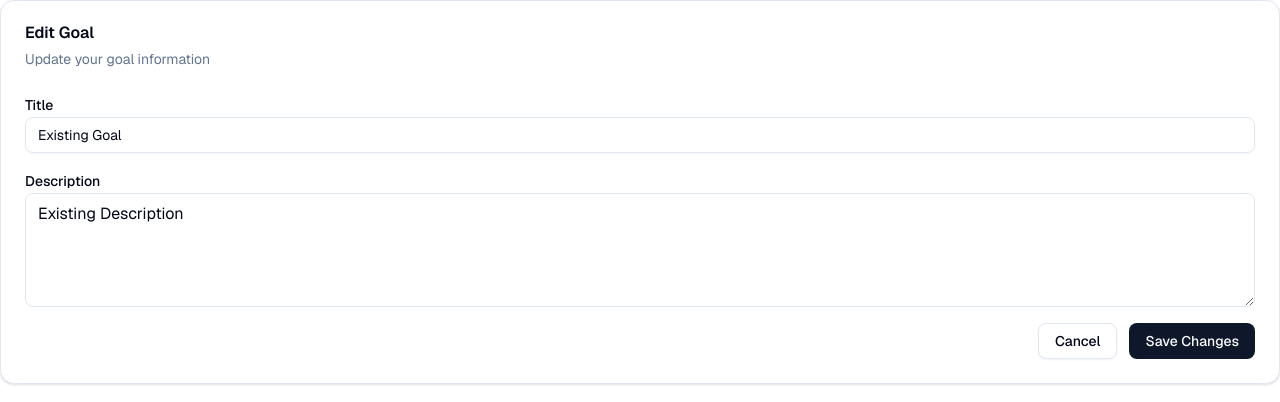
Test: GoalForm › Edit Mode › shows saving state during update
Click the button "Save Changes". click: [1192, 341]
box: left=1129, top=323, right=1255, bottom=359
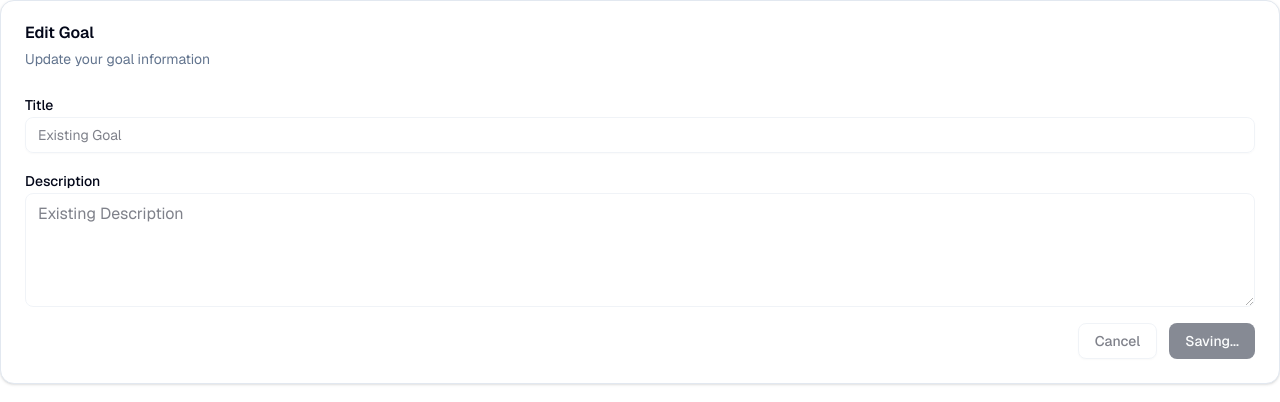
Check: the button "Saving..." is shown, box left=1169, top=323, right=1255, bottom=359
